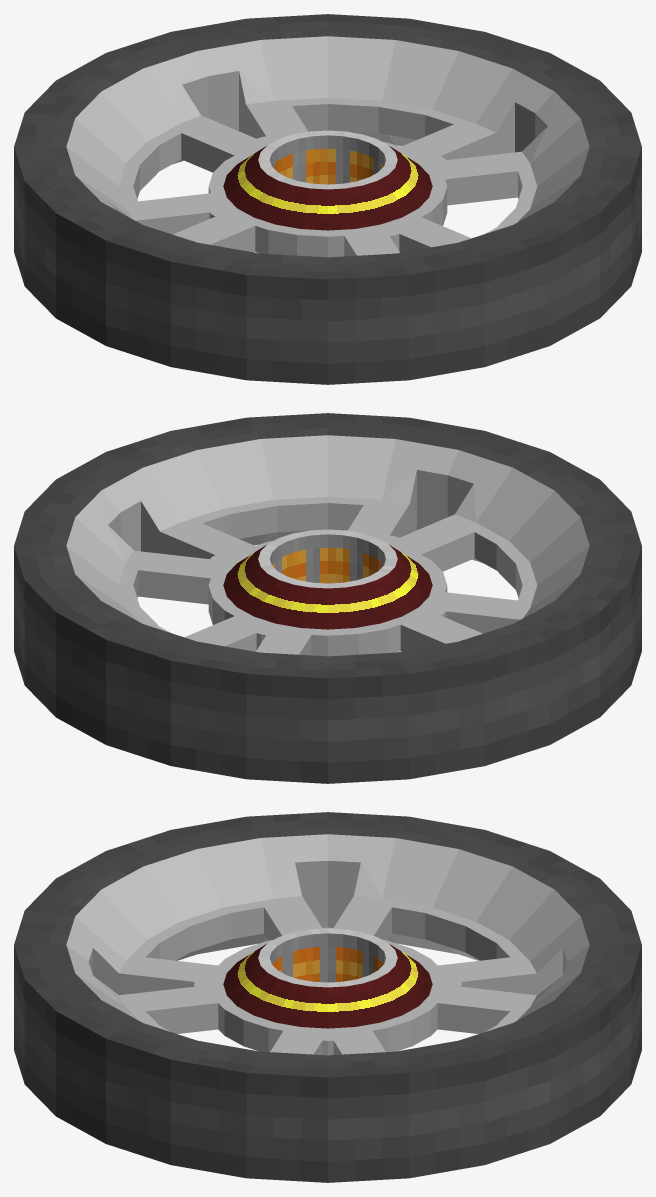
The model's file is flying_wheel_3.obj.
The picture shows the model from 3 angles, top to bottom: view 1: azimuth 30°, elevation 25°; view 2: azimuth 150°, elevation 25°; view 3: azimuth 270°, elevation 25°; orthographic projection.
Visible parts, largest first — view 1: flywheel; view 2: flywheel; view 3: flywheel.
Part boxes in pixels (x1,y1,x2,y2): flywheel: (14,14,641,384); flywheel: (14,413,641,783); flywheel: (14,812,641,1182).
Bounding box in the file's own units: 2.7 × 0.5 × 2.7.
